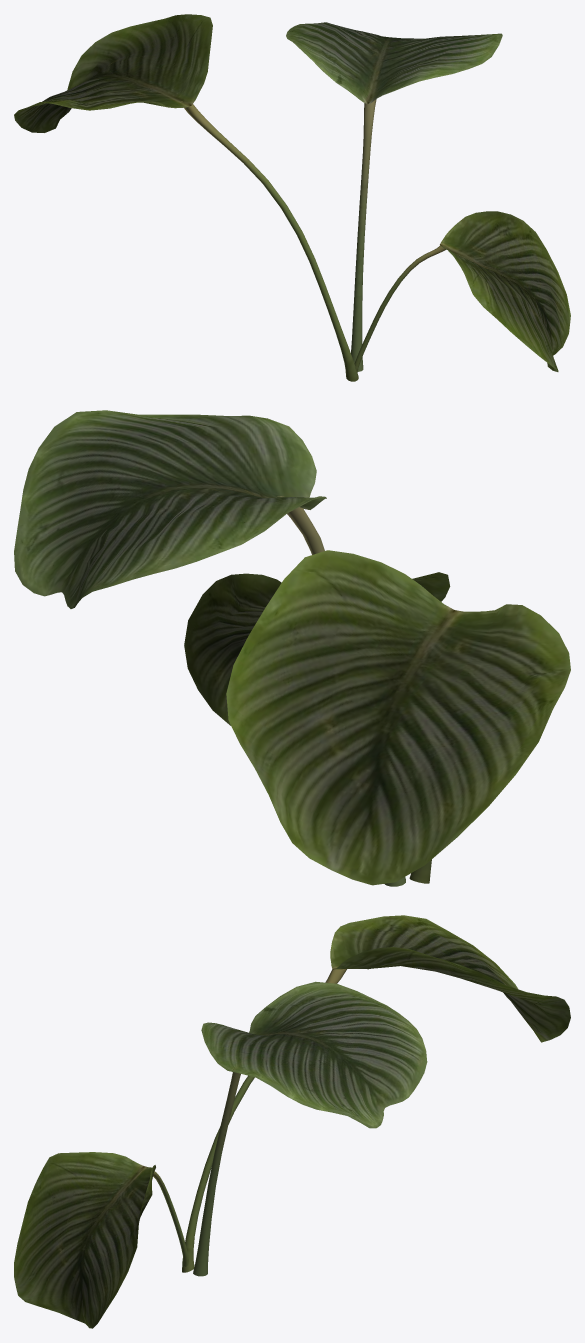
File: calathea_orbifolia_01_d.gltf
The picture shows the model from 3 angles, top to bottom: view 1: azimuth 30°, elevation 25°; view 2: azimuth 150°, elevation 25°; view 3: azimuth 270°, elevation 25°; orthographic projection. The views are drawn at different scales.
Parts seen in each view (by area): view 1: calathea_orbifolia_01_e; view 2: calathea_orbifolia_01_e; view 3: calathea_orbifolia_01_e.
Part boxes in pixels (x1=…): calathea_orbifolia_01_e: x1=14, y1=14, x2=570, y2=381; calathea_orbifolia_01_e: x1=14, y1=410, x2=570, y2=886; calathea_orbifolia_01_e: x1=14, y1=915, x2=570, y2=1328.
Bounding box in the file's own units: 0.2128 × 0.1516 × 0.2516.
1 material, 1 textured.
